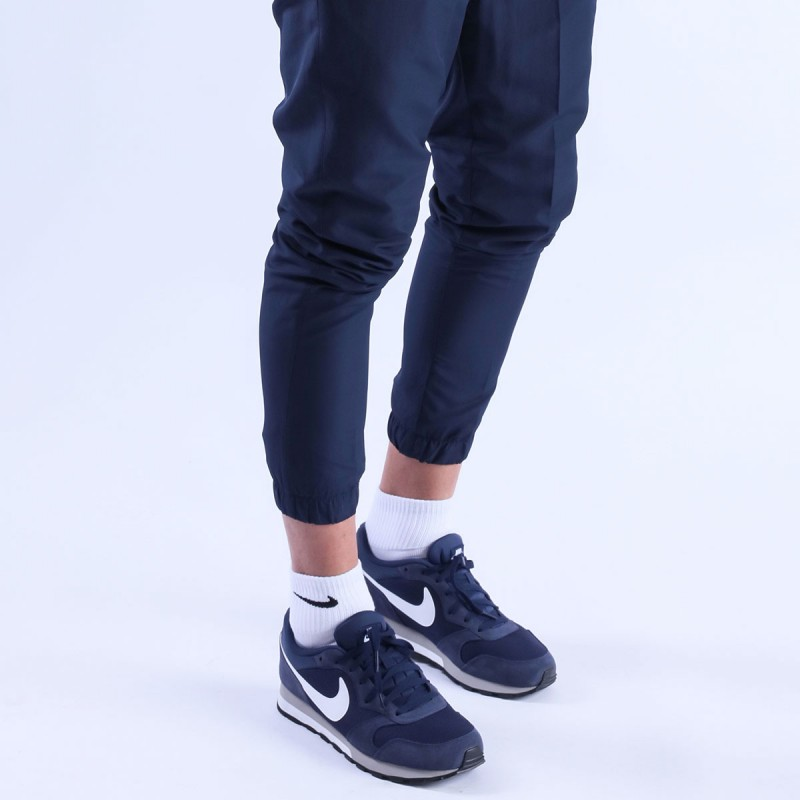nike: (280, 654, 350, 726), (383, 577, 439, 635)
